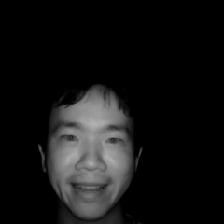happy: (31, 63, 153, 219)
